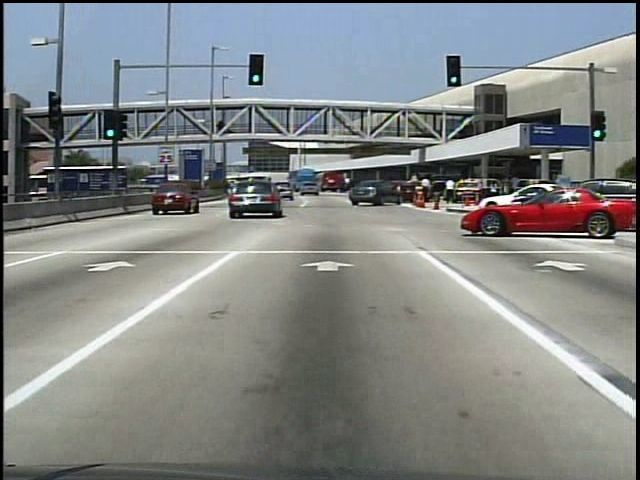person: (418, 173, 434, 209), (487, 179, 502, 214), (444, 176, 460, 204), (218, 121, 227, 138)
